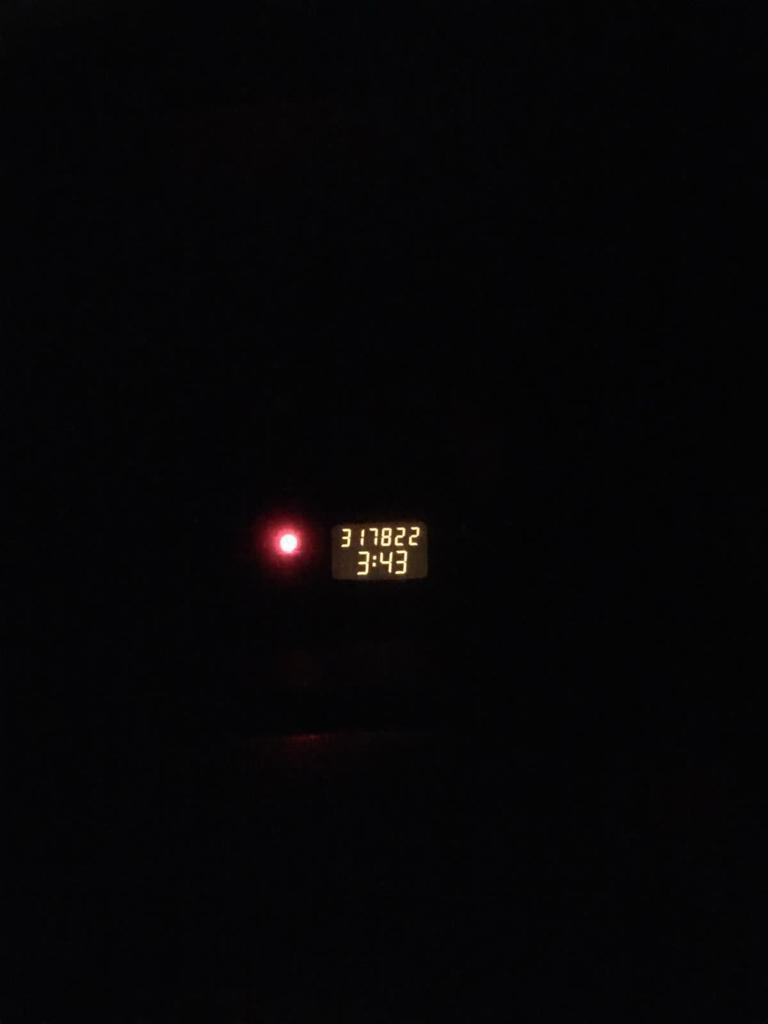1: (357, 526, 366, 547)
2: (392, 525, 406, 547), (407, 525, 420, 547)
3: (355, 549, 369, 576), (394, 549, 407, 575), (339, 526, 352, 548)
4: (379, 550, 392, 574)
7: (368, 526, 379, 547)
8: (380, 526, 392, 547)
X: (371, 553, 377, 569)
odometer: (326, 517, 433, 584)
